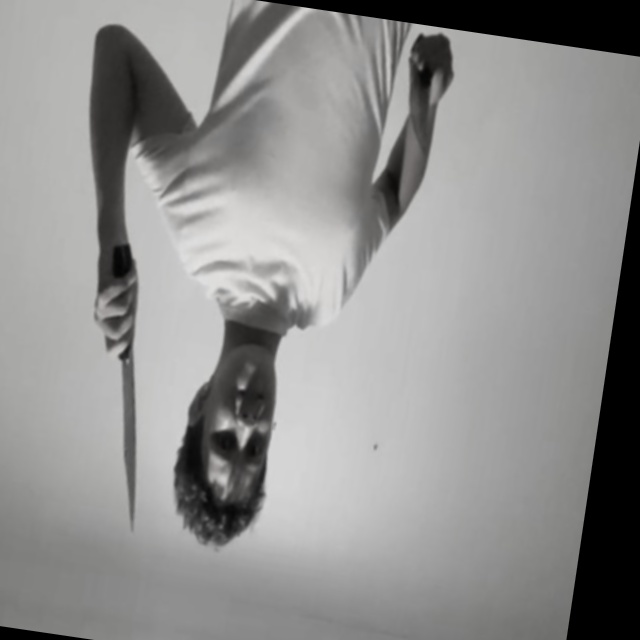Sharp-Object: (99, 351, 158, 533), (398, 58, 440, 152)
